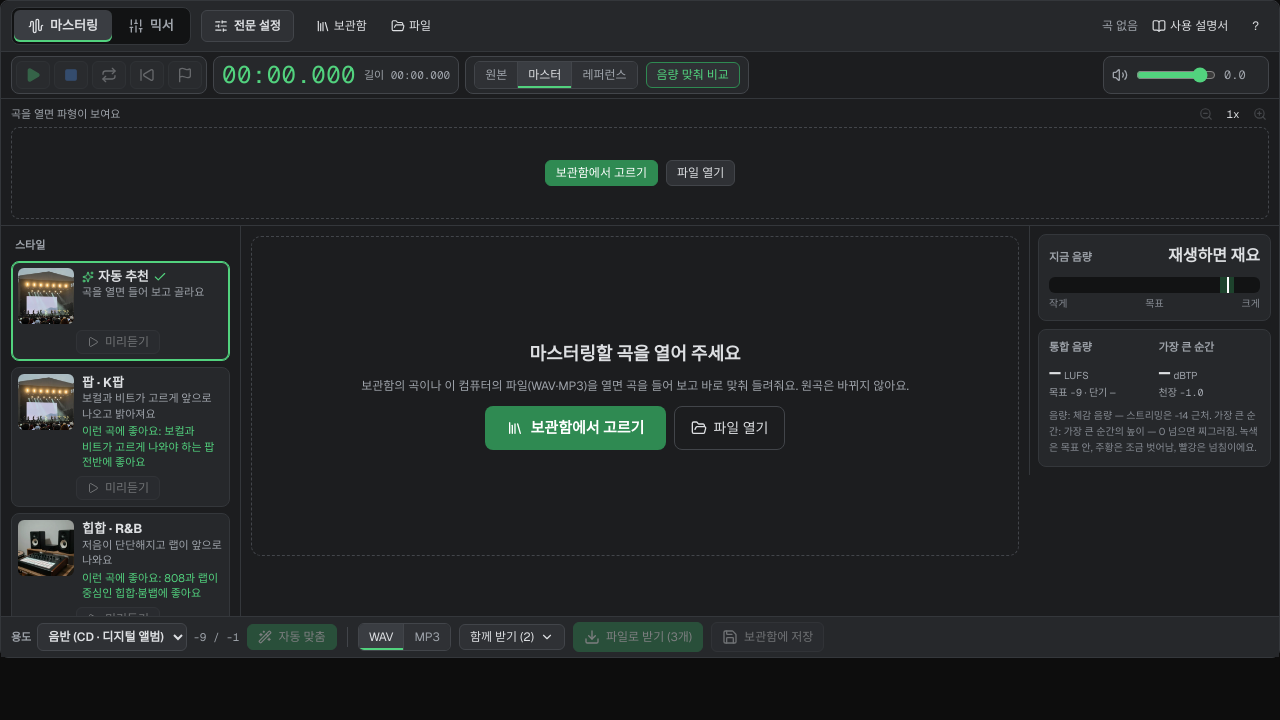
마스터링 화면 — 한 화면 단계적 펼침 › 첫 화면은 용도가 음반이고, 스트리밍으로 바꾸면 목표가 바뀐다 — 납품처 칩 줄은 하나도 없다(드롭다운 하나)
This screenshot has width=1280, height=720.
Select "음원 스트리밍" in the dropdown named "용도" at [112, 637], box [37, 623, 187, 651]
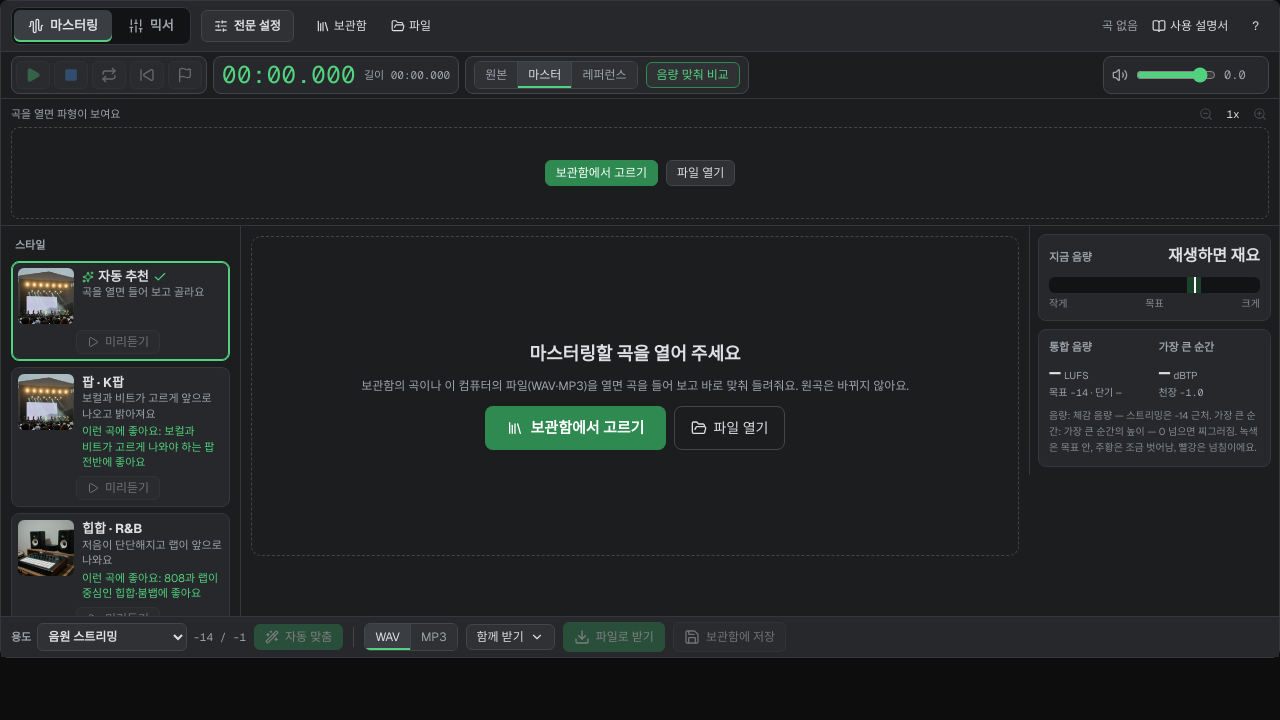
Expected: the text "-14 / -1" is shown, [193, 630, 246, 644]
